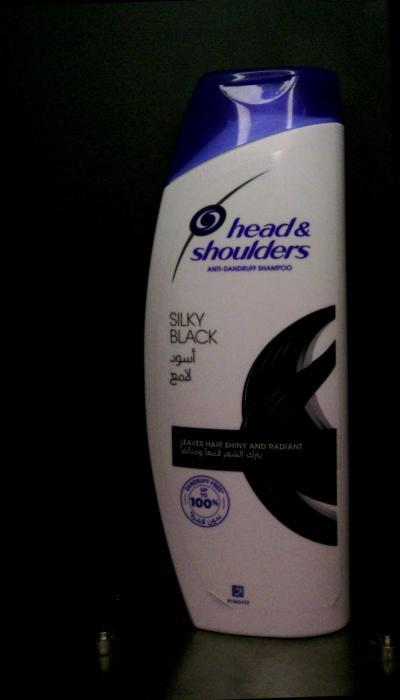adhesion_marg: (202, 588, 235, 610), (327, 590, 344, 611)
